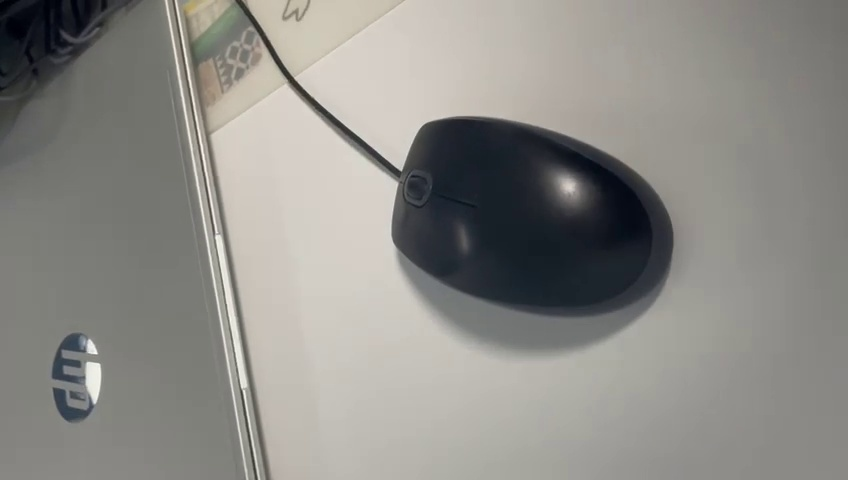objeto: (368, 90, 698, 331)
